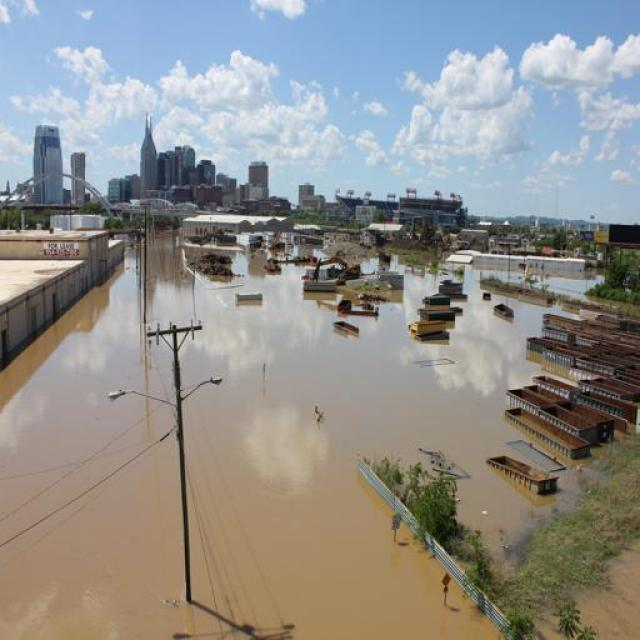puddle: (8, 380, 414, 640), (83, 299, 424, 406), (382, 347, 522, 537)
